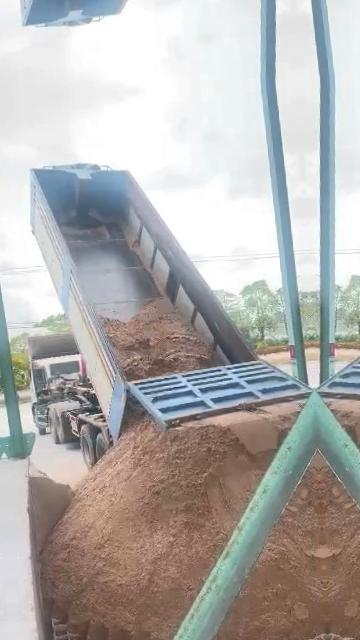sand: (43, 415, 272, 640), (215, 466, 327, 640), (101, 301, 221, 380), (179, 402, 298, 467), (29, 467, 73, 562)
